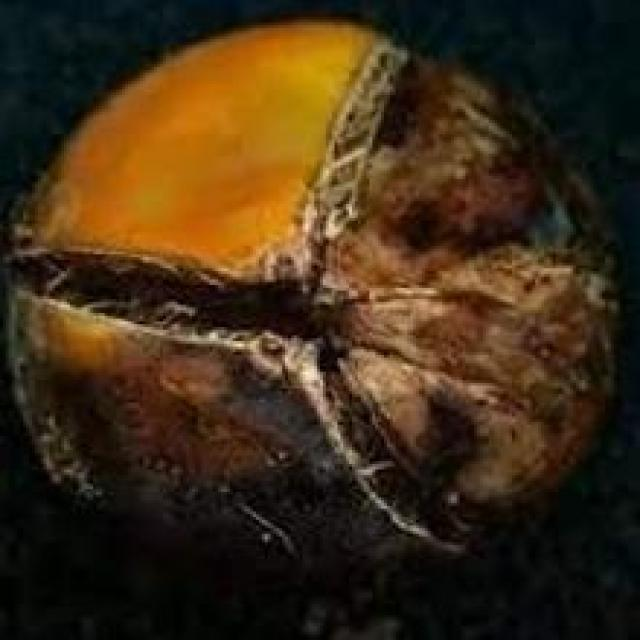damaged: (15, 14, 625, 562)
